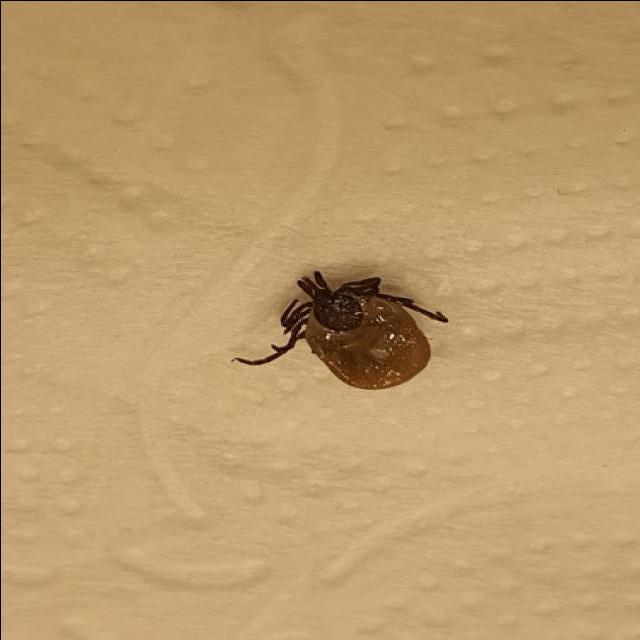Ixodes Ricinus-F-Fed: (234, 269, 449, 388)
